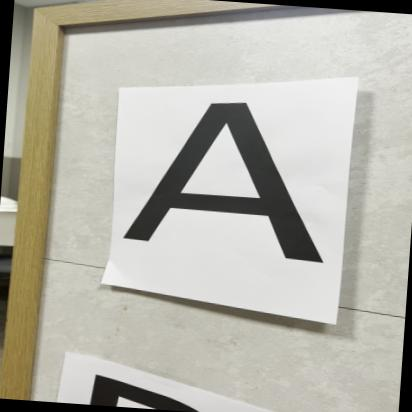seat: (127, 87, 331, 285)
